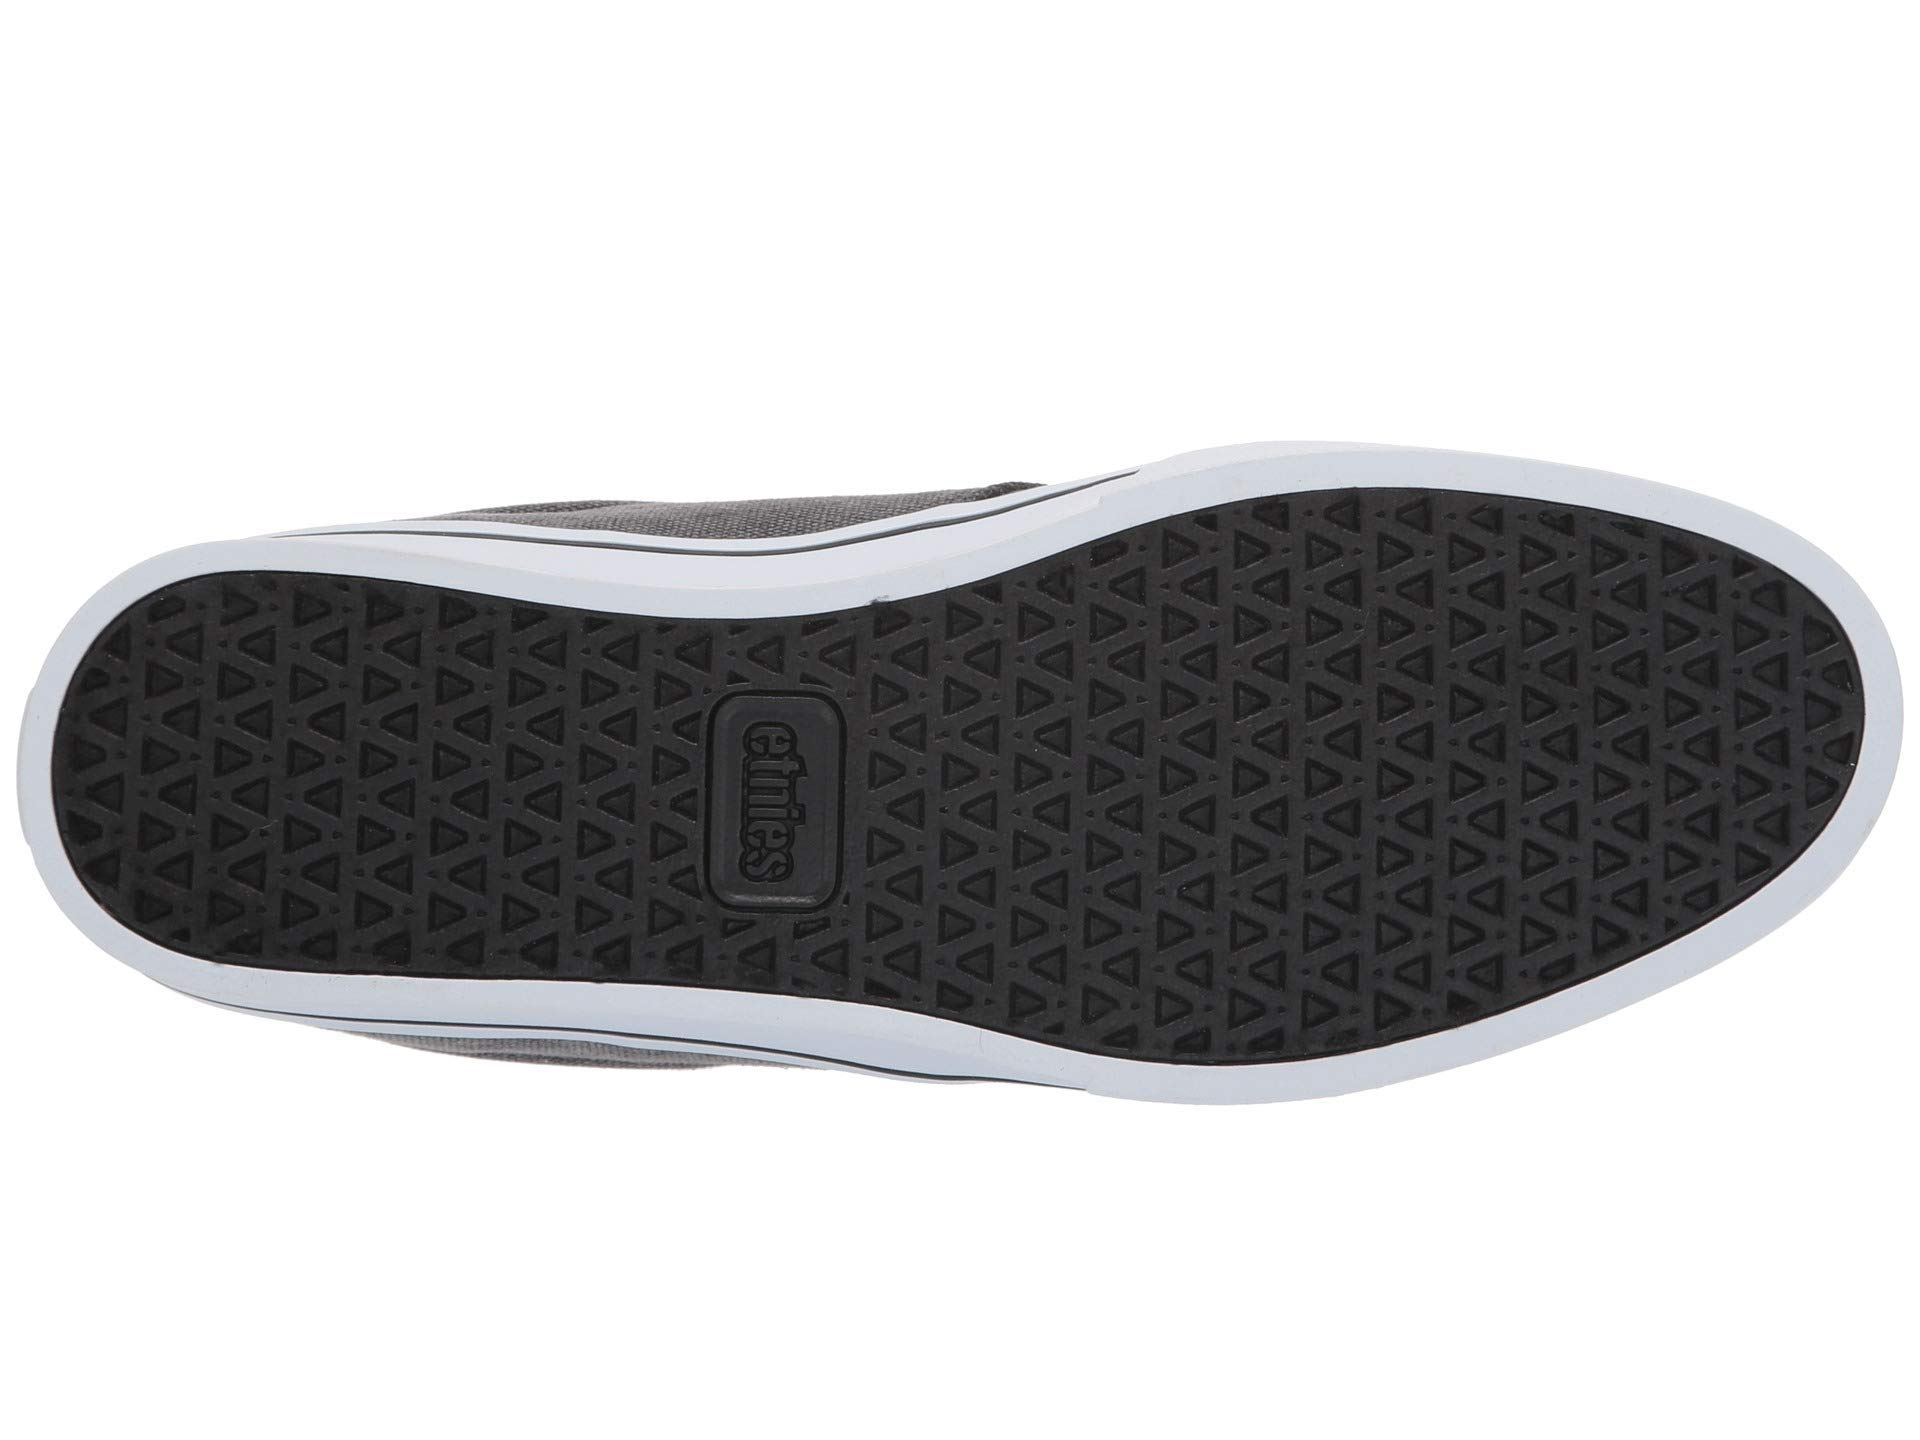circle: (1008, 576, 1652, 929)
quad: (692, 690, 844, 909)
text: (692, 690, 844, 909)
triangle: (1008, 576, 1652, 929)
